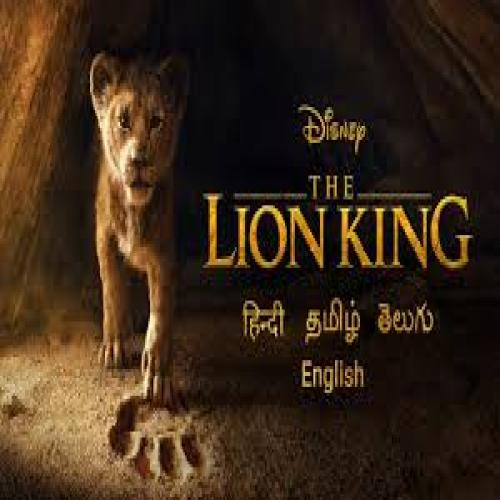lion-endangered: (88, 48, 191, 410)
